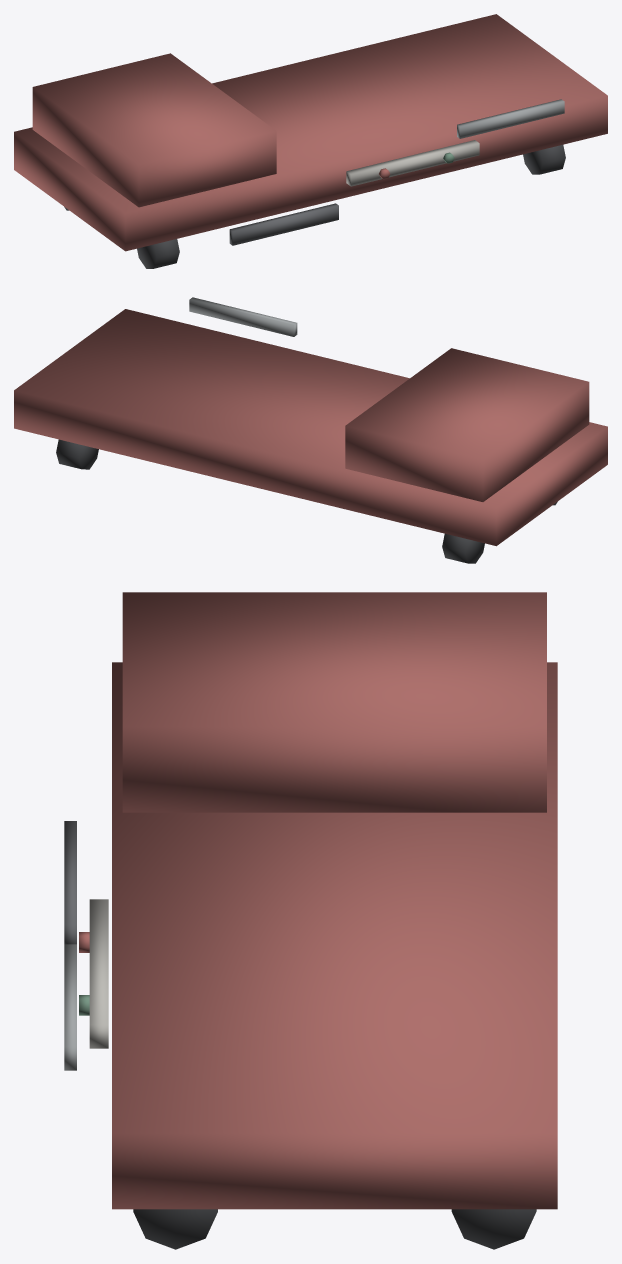
File: mechanic_creeper__weathered.glb
The picture shows the model from 3 angles, top to bottom: view 1: azimuth 30°, elevation 25°; view 2: azimuth 150°, elevation 25°; view 3: azimuth 270°, elevation 25°; orthographic projection. The views are drawn at different scales.
Visible parts, largest first — view 1: world; view 2: world; view 3: world.
Boxes of the visible parts, x1,y1,x2,y2 form: world: (14, 14, 607, 268); world: (14, 297, 607, 563); world: (64, 592, 557, 1249).
Bounding box in the file's own units: 1.05 × 0.2475 × 0.465.
